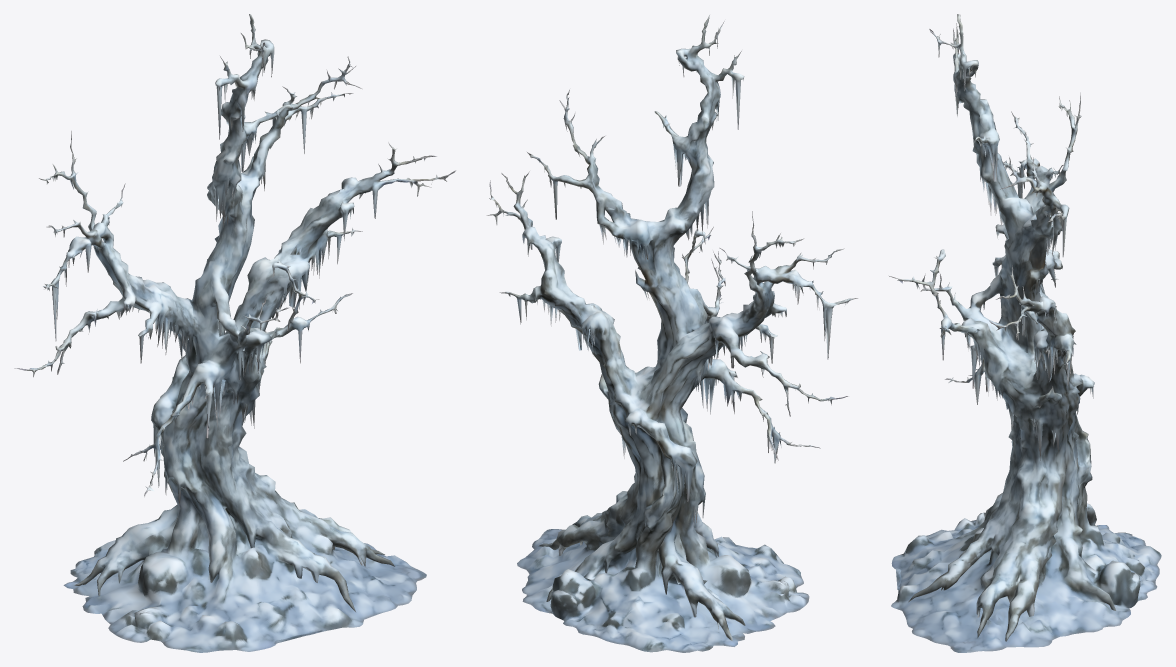
Rendered from frost_3.glb.
3 renders of one model, left to right at view 1: azimuth 30°, elevation 25°; view 2: azimuth 150°, elevation 25°; view 3: azimuth 270°, elevation 25°, orthographic. The views are drawn at different scales.
Parts seen in each view (by area): view 1: geometry_0; view 2: geometry_0; view 3: geometry_0.
Part boxes in pixels (bbox=[...]): geometry_0: bbox=[14, 14, 456, 652]; geometry_0: bbox=[486, 15, 857, 652]; geometry_0: bbox=[889, 14, 1161, 652].
Bounding box in the file's own units: 0.687 × 0.9507 × 0.4224.
1 material, 1 textured.
